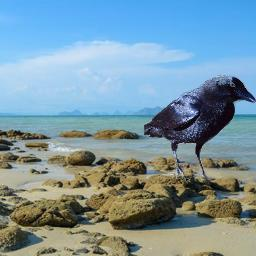Crow: (144, 75, 256, 183)
